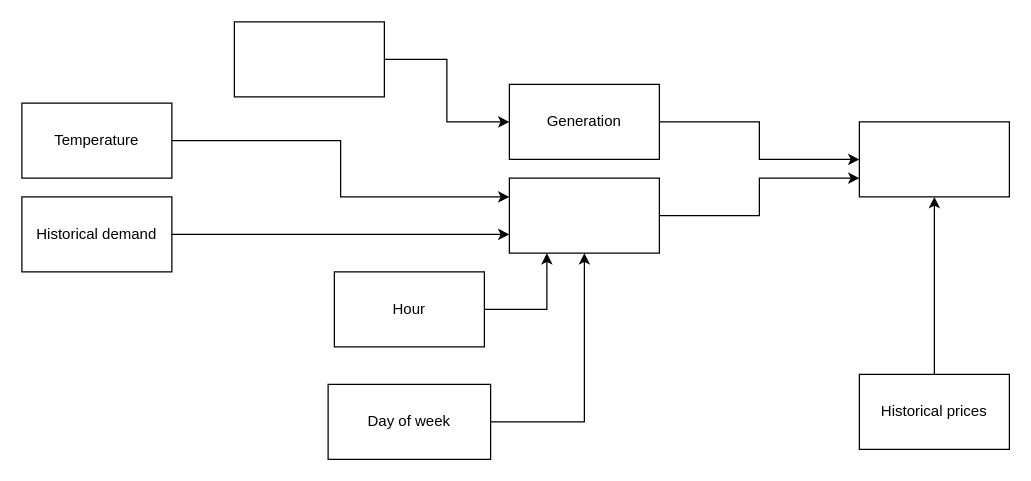
Some shapes in this 1031 by 481 pixel diagram are drawn without their labels. Here are the shapes that lost their labels. From the top down, the box of each, then its label:
(233, 21, 384, 97): Weather
(858, 121, 1009, 197): Predicted prices
(508, 177, 659, 253): Demand
